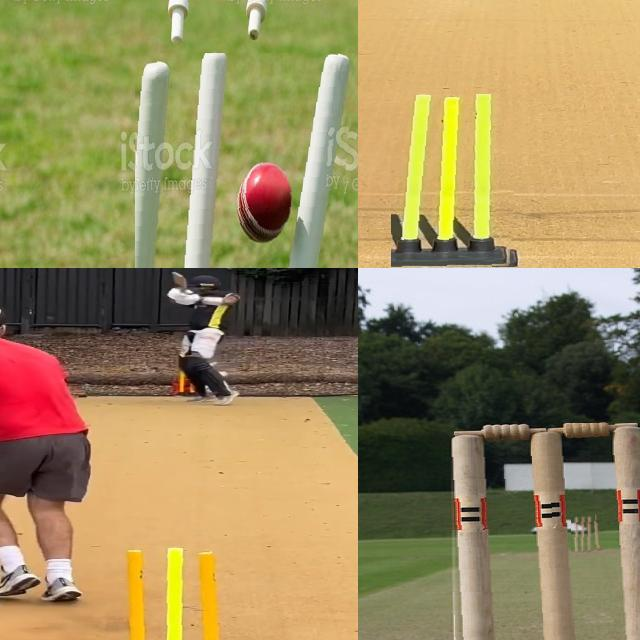Cricket ball: (244, 157, 306, 257)
Stumps: (134, 53, 354, 268), (445, 422, 640, 640), (391, 94, 521, 268), (107, 547, 230, 640), (572, 514, 596, 557)
